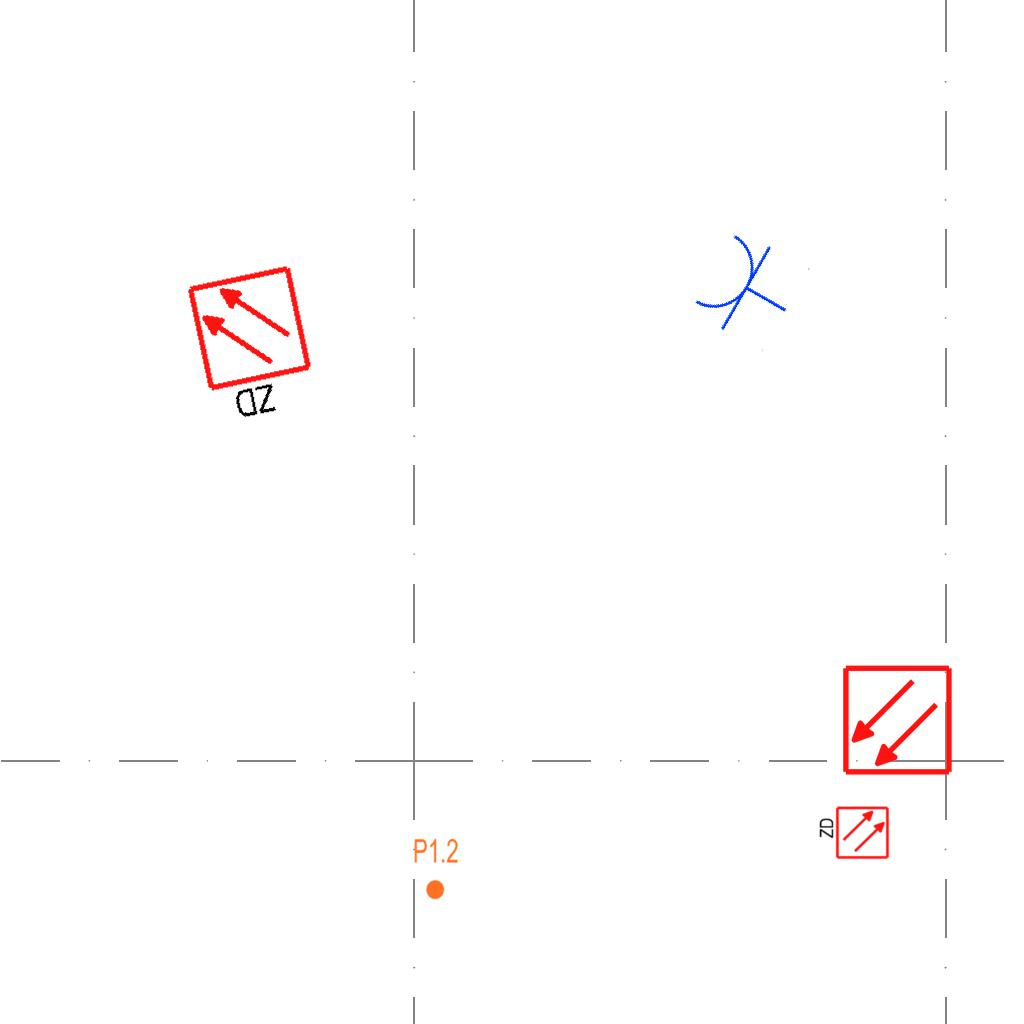Downlight_LED_Einbauleuchten_Flur: (413, 837, 459, 901)
RMO_Rauchmelder_optischer: (841, 664, 954, 777)
Schukosteckdose_einfach: (686, 223, 812, 354)
ZD_Melder_in_Zwischendecke_mit_Revisionsoeffnung_mind_40_x_40_cm: (183, 261, 327, 432), (816, 805, 890, 862)
